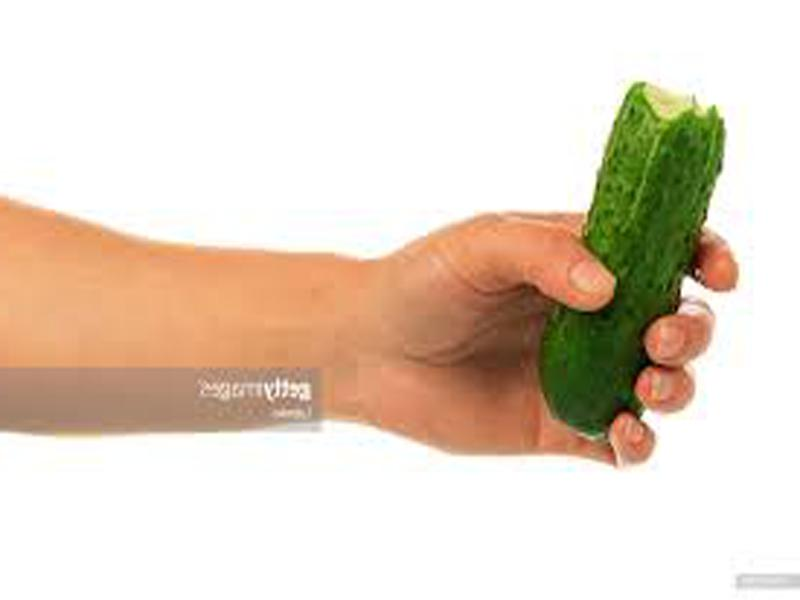Cucumber: (540, 82, 723, 436)
